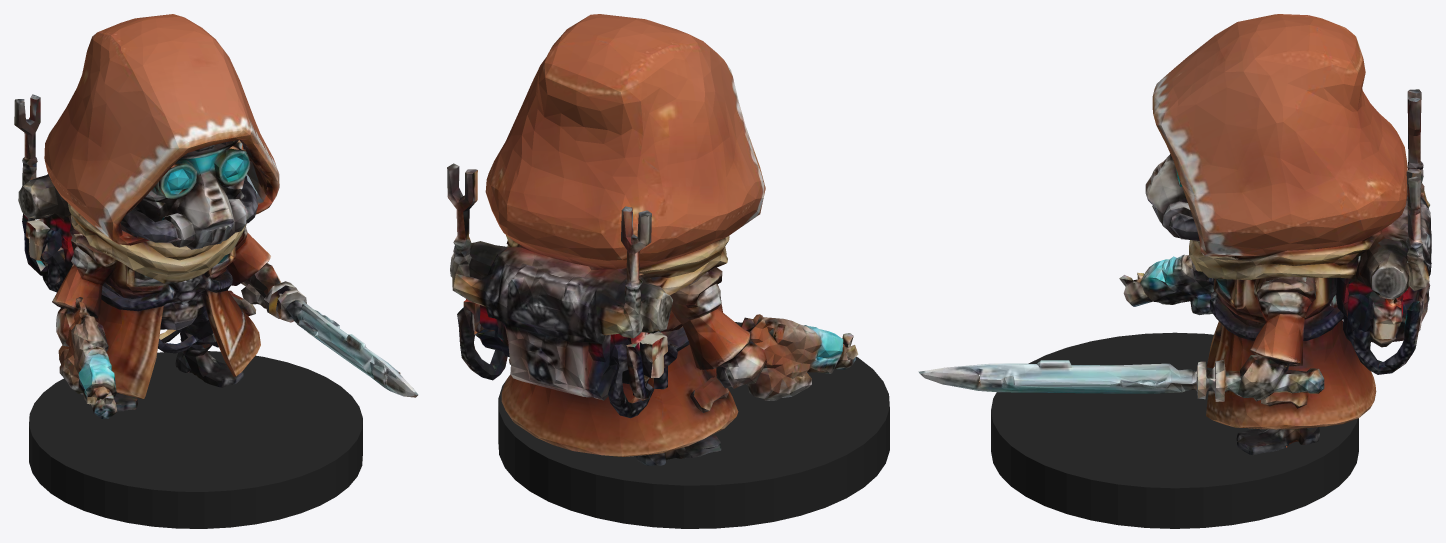
Rendered from skitarii-ranger-alpha.glb.
3 views of the same model, side by side, from view 1: azimuth 30°, elevation 25°; view 2: azimuth 150°, elevation 25°; view 3: azimuth 270°, elevation 25° (orthographic). The views are drawn at different scales.
Visible parts, largest first — view 1: figure, base; view 2: figure, base; view 3: figure, base.
Part boxes in pixels (<box>): figure: <box>14,14,418,418</box>; base: <box>29,351,362,528</box>; figure: <box>447,14,858,465</box>; base: <box>498,322,889,528</box>; figure: <box>918,14,1431,455</box>; base: <box>991,332,1358,528</box>.
Bounding box in the file's own units: 0.9843 × 1.27 × 1.37.
Materials: 2 (1 with a texture image).
